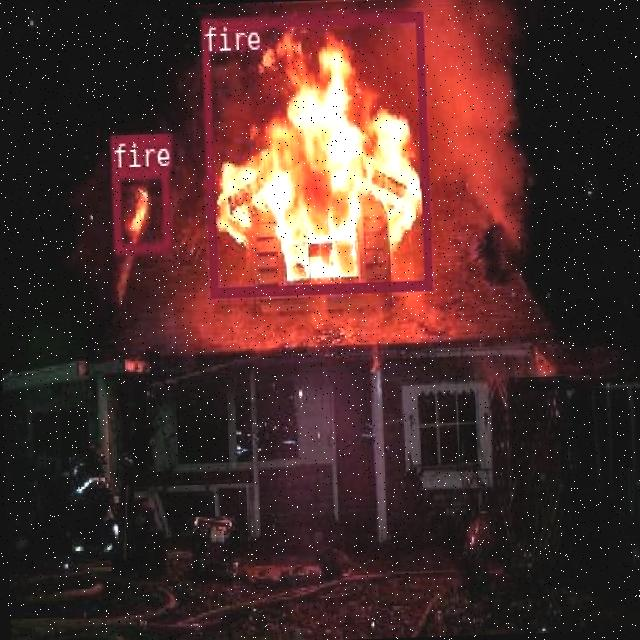fire: (200, 11, 430, 294), (110, 167, 169, 252)
